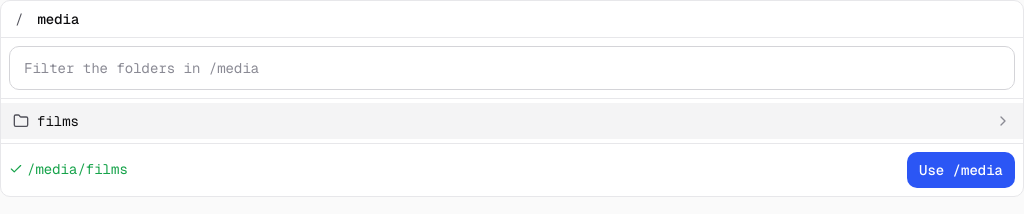
Test: TreeFolderWidget › opens next to the folder already picked and says it is in use
Check: the text "/media/films" is shown, box [27, 159, 128, 179]
Press the mouse on the option "films": [58, 121] box [1, 103, 1023, 139]
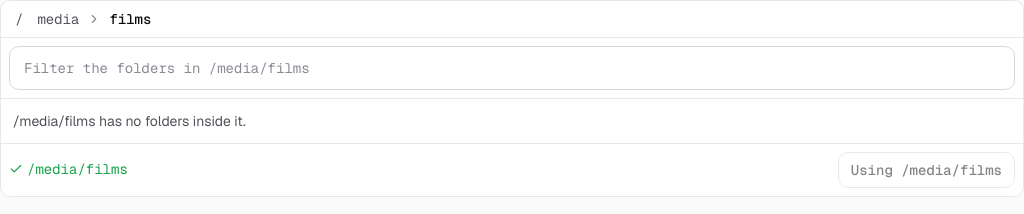
Check: the button "Using /media/films" is disabled, box [838, 152, 1015, 188]
